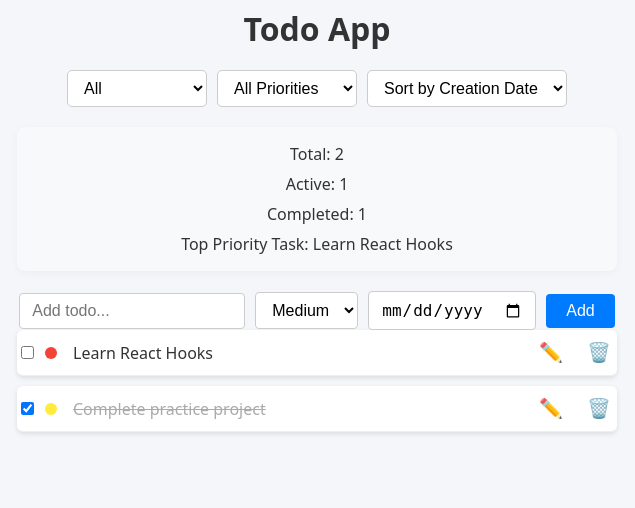
it: Todo App › adds a new todo via form
The image size is (635, 508).
In the field with placeholder "Add todo...": (132, 311) x1=19 y1=293 x2=245 y2=329, type "Test new todo"
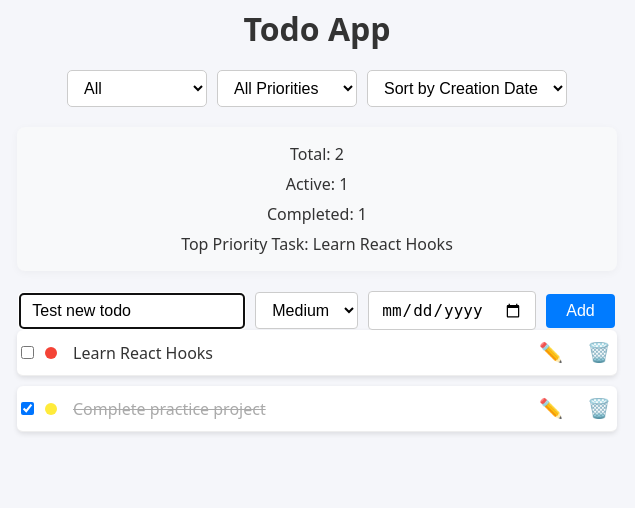
Select "Low" in the dropdown named "priority": (307, 311) x1=255 y1=292 x2=358 y2=329
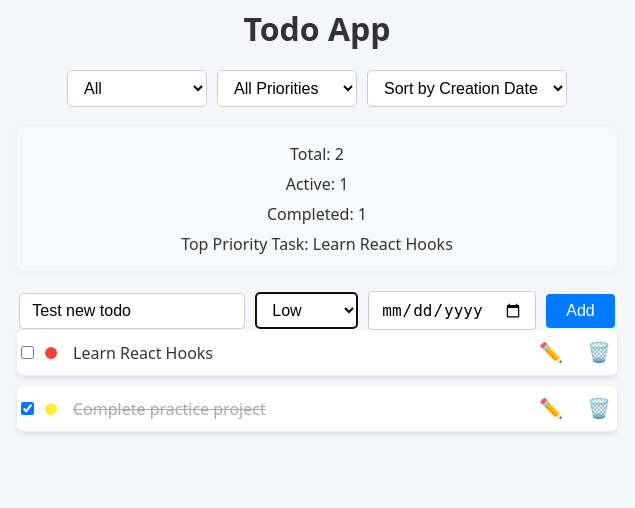
Click the button with aria-label "add todo": (581, 311) x1=546 y1=294 x2=615 y2=328
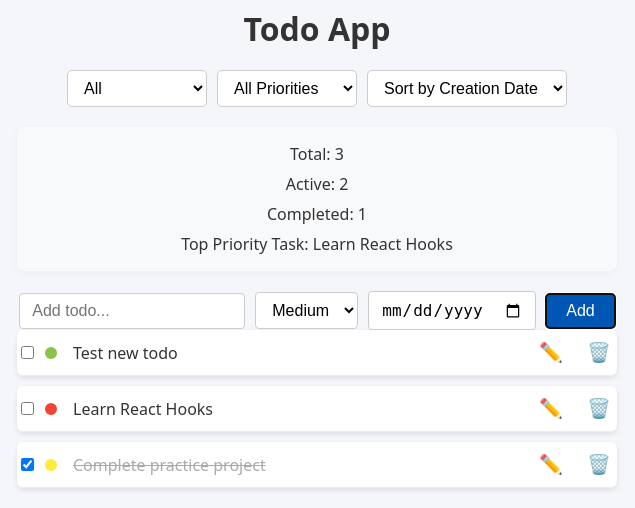
Check: the text "Test new todo" is shown, box x1=73 y1=342 x2=178 y2=364
